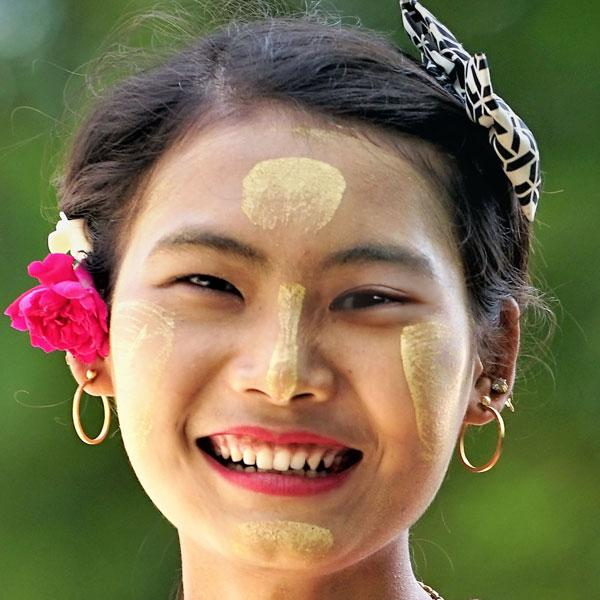Eyes: (320, 275, 426, 326), (153, 259, 251, 313)
